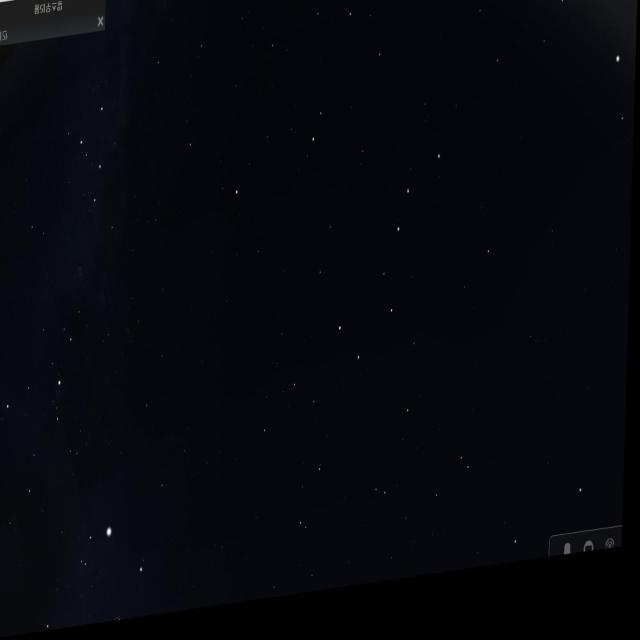cassiopeia: (64, 90, 139, 276)
ursa_major: (337, 158, 446, 384)
